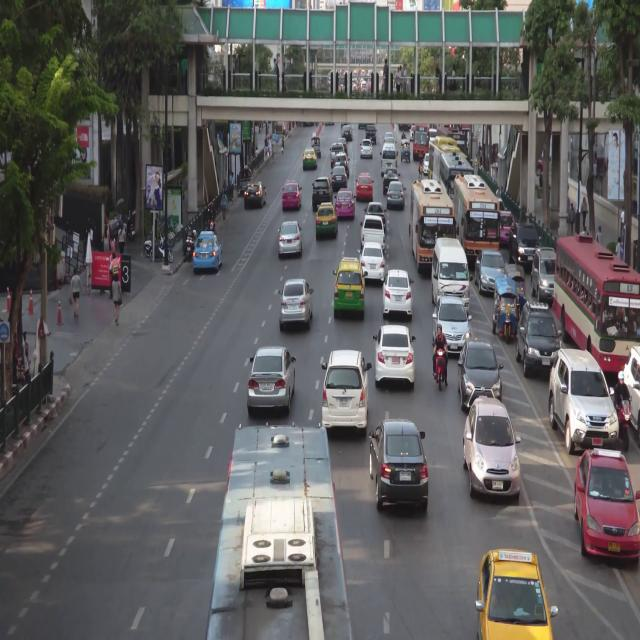bus: (217, 419, 349, 640), (557, 239, 640, 381), (450, 171, 505, 264), (407, 178, 458, 272), (440, 154, 473, 214), (430, 139, 460, 193), (438, 126, 465, 154), (413, 122, 429, 159)
car: (550, 348, 618, 447), (466, 400, 522, 504), (370, 422, 428, 513), (323, 351, 367, 436), (519, 301, 561, 375), (461, 339, 502, 411), (434, 240, 470, 315), (250, 350, 293, 410), (375, 326, 415, 390), (433, 299, 470, 354), (493, 276, 520, 339), (624, 346, 640, 439), (281, 282, 312, 329), (510, 223, 540, 269), (384, 273, 413, 319), (474, 250, 503, 294), (532, 249, 555, 303), (360, 243, 385, 282), (505, 264, 526, 308), (361, 213, 385, 251), (280, 221, 303, 256), (313, 177, 333, 208), (381, 146, 398, 175), (387, 181, 405, 207), (245, 182, 264, 206), (365, 203, 385, 225), (330, 143, 346, 165), (332, 167, 347, 190), (335, 155, 350, 176), (384, 169, 398, 190), (360, 138, 373, 157), (365, 125, 377, 143), (341, 124, 353, 140), (311, 136, 320, 155), (400, 139, 409, 158), (424, 156, 429, 174), (383, 137, 395, 144), (384, 132, 393, 139), (410, 126, 414, 141)
pedestrian: (113, 274, 122, 326), (72, 269, 80, 317), (568, 203, 575, 234), (220, 191, 227, 220), (118, 225, 125, 252), (582, 195, 587, 229), (103, 226, 109, 250), (616, 237, 621, 260), (23, 330, 27, 358), (230, 170, 234, 198), (596, 226, 602, 243), (271, 145, 276, 164), (265, 134, 269, 157), (111, 235, 116, 252), (224, 179, 228, 197), (282, 135, 285, 155), (269, 135, 272, 155)
taxi: (577, 444, 640, 569), (478, 545, 557, 640), (335, 258, 364, 318), (194, 231, 222, 270), (316, 203, 338, 237), (282, 180, 302, 210), (499, 211, 517, 244), (355, 174, 373, 202), (336, 190, 355, 216), (303, 148, 317, 168)
